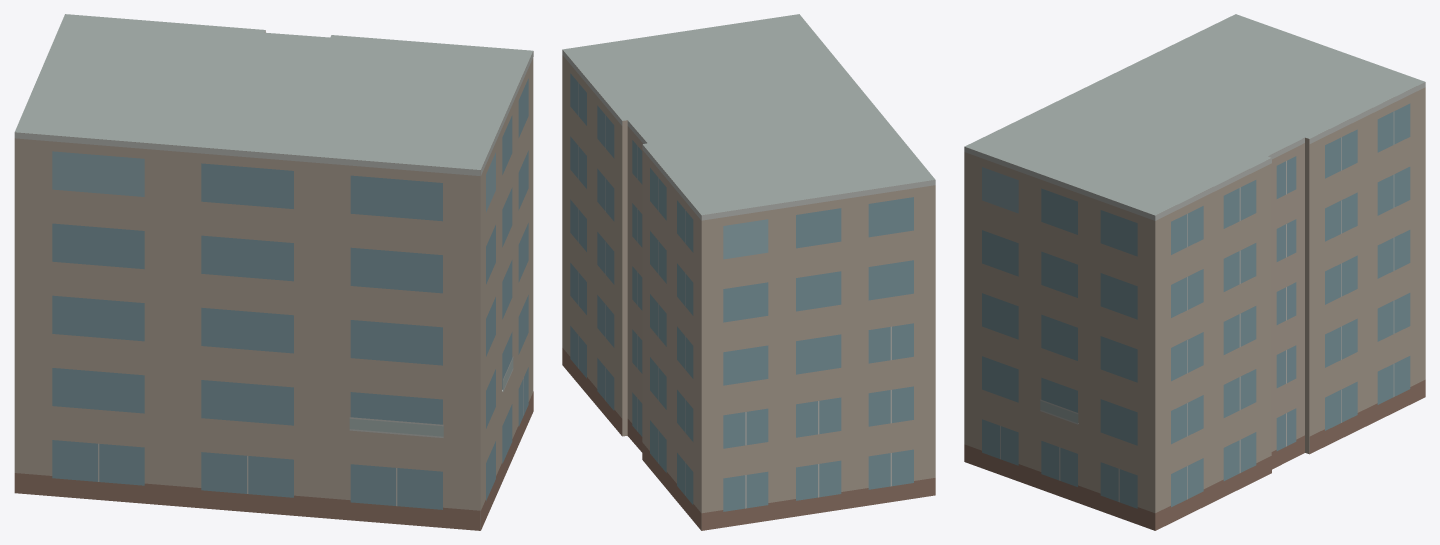
File: survey-upis-32655650.glb
3 renders of one model, left to right at view 1: azimuth 30°, elevation 25°; view 2: azimuth 150°, elevation 25°; view 3: azimuth 270°, elevation 25°, orthographic. The views are drawn at different scales.
Visible parts, largest first — view 1: survey-upis-32655650.tmp; view 2: survey-upis-32655650.tmp; view 3: survey-upis-32655650.tmp.
Boxes of the visible parts, x1,y1,x2,y2 form: survey-upis-32655650.tmp: [14, 14, 533, 530]; survey-upis-32655650.tmp: [562, 14, 935, 530]; survey-upis-32655650.tmp: [964, 14, 1425, 530].
Size of the model in its own units: 19.82 by 14.45 by 19.16.
